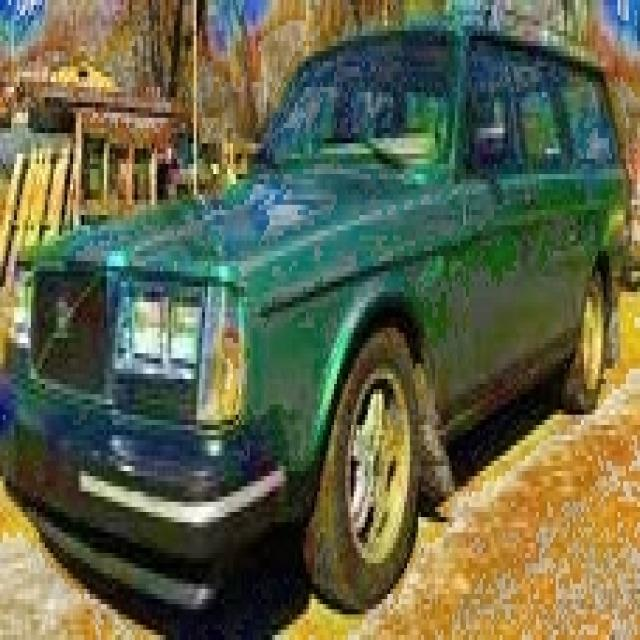green: (2, 26, 630, 614)
